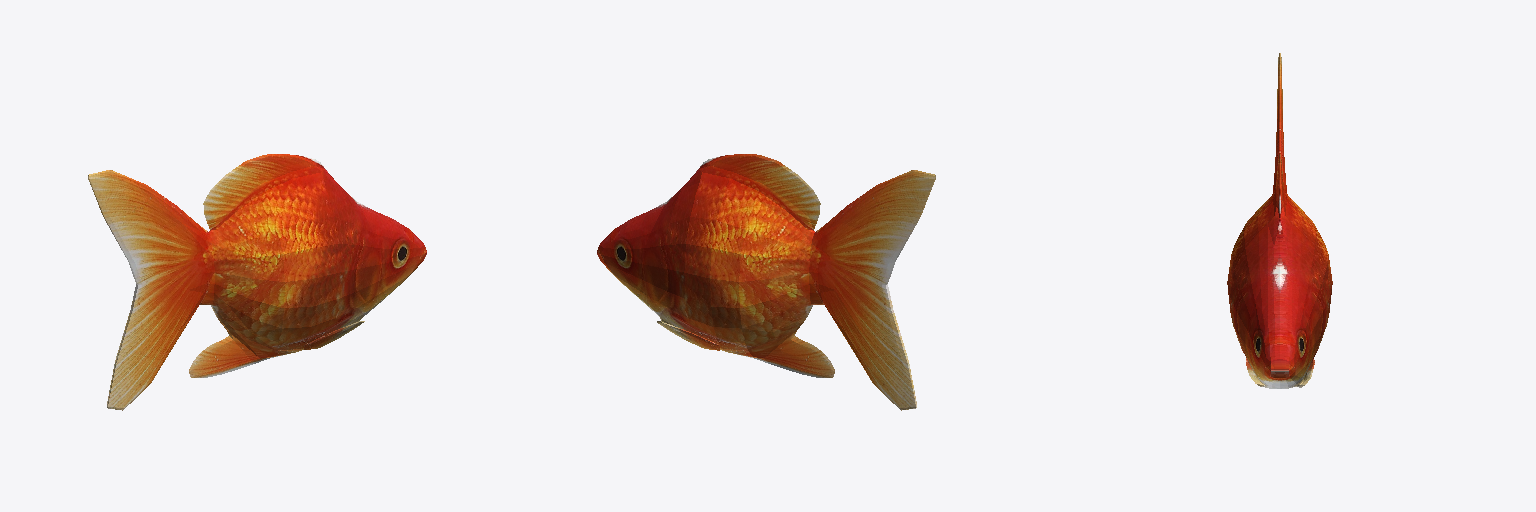
3 renders of one model, left to right at view 1: azimuth 30°, elevation 25°; view 2: azimuth 150°, elevation 25°; view 3: azimuth 270°, elevation 25°, orthographic.
Visible parts, largest first — view 1: fish:pCube1; view 2: fish:pCube1; view 3: fish:pCube1.
Part boxes in pixels (x1,y1,x2,y2): fish:pCube1: (88, 154, 426, 410); fish:pCube1: (597, 154, 935, 410); fish:pCube1: (1227, 53, 1332, 388).
Bounding box in the file's own units: 3.57 × 2.49 × 0.9756.
Materials: 1 (1 with a texture image).